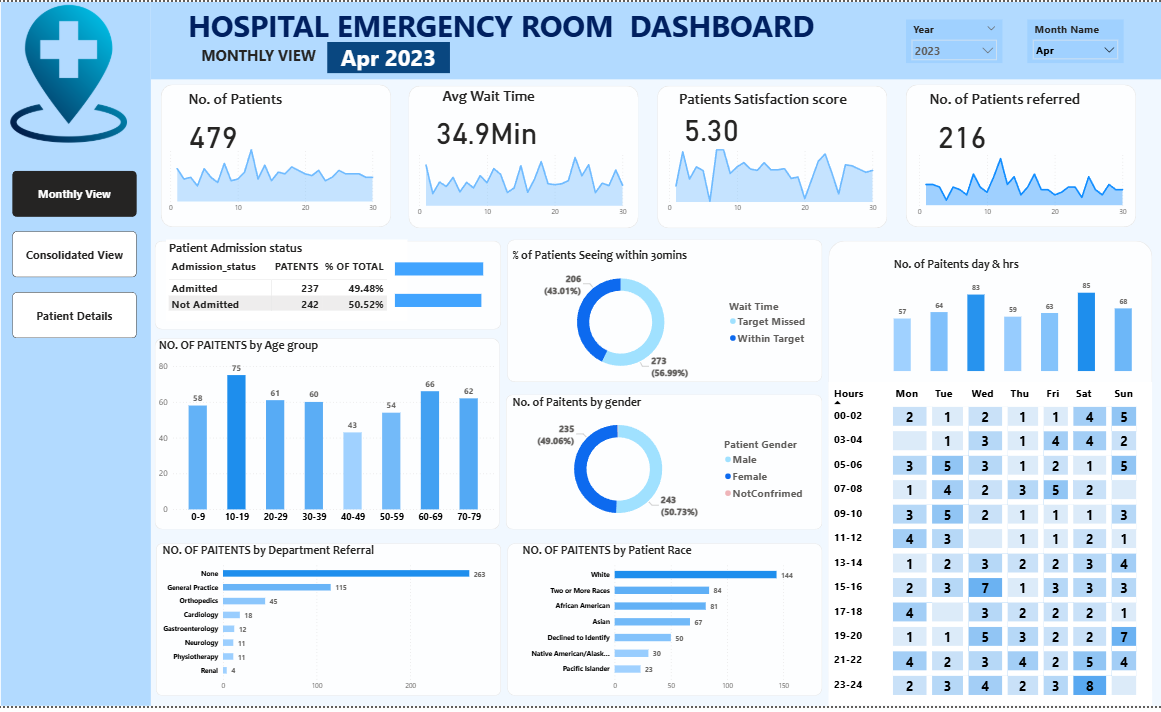

Layout of this report page (visuals, bound fields, positions):
{"tool":"powerbi","page":{"name":"Monthly View","canvas":[2100,1267],"ordinal":0},"visuals":[{"type":"shape","box":[9,0,269.9,1266.4],"z":0},{"type":"shape","box":[1637.5,148.5,413.9,256.4],"z":1000},{"type":"shape","box":[1189.9,150.7,413.9,256.4],"z":2000},{"type":"shape","box":[742.3,150.7,413.9,256.4],"z":3000},{"type":"shape","box":[278.9,0,1822,139.5],"z":4000},{"type":"textbox","box":[296.9,0,1223.7,139.5],"z":5000},{"type":"shape","box":[296.9,148.5,413.9,256.4],"z":6000},{"type":"card","fields":{"Values":["Hospital ER_Data.NO. OF PATENTS"]},"box":[300.1,184.4,184.4,103.5],"z":7000},{"type":"slicer","fields":{"Values":["Date Table.Year"]},"box":[1637.5,31.5,173.2,78.7],"z":8000},{"type":"slicer","fields":{"Values":["Date Table.Month Name"]},"box":[1855.7,31.5,173.2,78.7],"z":9000},{"type":"textbox","box":[348.7,72,247.4,78.7],"z":10000},{"type":"textbox","box":[300.1,153,263.2,67.5],"z":11000},{"type":"areaChart","fields":{"Y":["Hospital ER_Data.NO. OF PATENTS"],"Category":["Date Table.Date.Variation.Date Hierarchy.Day"]},"box":[299.2,251.9,393.6,137.2],"z":12000},{"type":"card","fields":{"Values":["Min(Date Table.Month & Year)"]},"box":[596.1,72,220.4,56.2],"z":13000},{"type":"card","fields":{"Values":["Hospital ER_Data.Avg wait time"]},"box":[783.7,177.7,200.2,103.5],"z":14000},{"type":"textbox","box":[763.4,148.5,247.4,72],"z":15000},{"type":"areaChart","fields":{"Category":["Date Table.Date.Variation.Date Hierarchy.Day"],"Y":["Avg(Hospital ER_Data.Patient Waittime)"]},"box":[746.8,258.7,395.9,137.2],"z":16000},{"type":"card","fields":{"Values":["Avg(Hospital ER_Data.Patient Satisfaction Score)"]},"box":[1195.3,173.2,184.4,103.5],"z":17000},{"type":"textbox","box":[1199.8,153,362.1,72],"z":18000},{"type":"areaChart","fields":{"Category":["Date Table.Date.Variation.Date Hierarchy.Day"],"Y":["Avg(Hospital ER_Data.Patient Satisfaction Score)"]},"box":[1197.6,251.9,395.9,137.2],"z":19000},{"type":"card","fields":{"Values":["Hospital ER_Data.No of patients referred"]},"box":[1647.1,184.1,184.4,103.5],"z":20000},{"type":"textbox","box":[1618.2,153,395.9,85.5],"z":21000},{"type":"areaChart","fields":{"Category":["Date Table.Date.Variation.Date Hierarchy.Day"],"Y":["Hospital ER_Data.No of patients referred"]},"box":[1647.1,258.3,395.9,137.2],"z":22000},{"type":"shape","box":[285.7,429.6,623.1,159.7],"z":23000},{"type":"pivotTable","title":"Patient Admission status","fields":{"Rows":["Hospital ER_Data.Admission_status"],"Values":["Hospital ER_Data.NO. OF PATENTS1","Hospital ER_Data.NO. OF PATENTS"]},"box":[305.5,427.4,434.1,146.2],"z":24000},{"type":"barChart","fields":{"Category":["Hospital ER_Data.Admission_status"],"Y":["Hospital ER_Data.NO. OF PATENTS"]},"box":[713.1,427.4,206.9,159.7],"z":25000},{"type":"shape","box":[285.7,605.1,620.8,344.2],"z":26000},{"type":"clusteredColumnChart","fields":{"Category":["Hospital ER_Data.Age group"],"Y":["Hospital ER_Data.NO. OF PATENTS"]},"box":[287.9,605.1,614.1,344.2],"z":27000},{"type":"shape","box":[287.9,974,620.8,274.4],"z":28000},{"type":"clusteredBarChart","fields":{"Category":["Hospital ER_Data.Department Referral"],"Y":["Hospital ER_Data.NO. OF PAITENTS"]},"box":[294.7,974,602.8,274.4],"z":29000},{"type":"shape","title":"%age of Patients within 30 mins","box":[920,427.4,566.8,256.4],"z":30000},{"type":"donutChart","title":"% of Patients Seeing within 30mins","fields":{"Category":["Hospital ER_Data.Wait Time"],"Y":["Hospital ER_Data.NO. OF PAITENTS"]},"box":[924.5,443.1,546.6,240.7],"z":31000},{"type":"shape","title":"%age of Patients within 30 mins","box":[917.7,706.3,569.1,242.9],"z":32000},{"type":"shape","title":"%age of Patients within 30 mins","box":[1498.1,429.6,582.6,836.8],"z":33000},{"type":"donutChart","title":"No. of Paitents by gender","fields":{"Y":["Hospital ER_Data.NO. OF PAITENTS"],"Category":["Hospital ER_Data.Patient Gender"]},"box":[924.5,706.3,546.6,242.9],"z":34000},{"type":"shape","box":[920,974,566.8,274.4],"z":35000},{"type":"clusteredBarChart","fields":{"Category":["Hospital ER_Data.Patient Race"],"Y":["Hospital ER_Data.NO. OF PAITENTS"]},"box":[942.5,974,512.9,274.4],"z":36000},{"type":"pivotTable","fields":{"Rows":["Hospital ER_Data.Waittime_interval"],"Columns":["Date Table.Day_name"],"Values":["Hospital ER_Data.No of patients referred"]},"box":[1498.1,683.8,582.6,582.6],"z":37000},{"type":"columnChart","title":"No. of Paitents day & hrs","fields":{"Category":["Date Table.Day_name"],"Y":["Hospital ER_Data.NO. OF PAITENTS"]},"box":[1610.6,458.9,440.9,211.4],"z":38000},{"type":"image","box":[0,0,260.9,258.7],"z":39000},{"type":"pageNavigator","box":[29.2,303.7,224.9,301.4],"z":40000}]}

Visuals, with their boxes in screenshot pixels (x1, y1, x2, y2), scaled from the page's 2100x1267 canvas onto the 1161x712 screenshot:
shape: <region>5, 0, 154, 711</region>
shape: <region>905, 83, 1134, 228</region>
shape: <region>658, 85, 887, 229</region>
shape: <region>410, 85, 639, 229</region>
shape: <region>154, 0, 1160, 78</region>
textbox: <region>164, 0, 841, 78</region>
shape: <region>164, 83, 393, 228</region>
card - Hospital ER_Data.NO. OF PATENTS: <region>166, 104, 268, 162</region>
slicer - Date Table.Year: <region>905, 18, 1001, 62</region>
slicer - Date Table.Month Name: <region>1026, 18, 1122, 62</region>
textbox: <region>193, 40, 330, 85</region>
textbox: <region>166, 86, 311, 124</region>
areaChart - Hospital ER_Data.NO. OF PATENTS x Date Table.Date.Variation.Date Hierarchy.Day: <region>165, 142, 383, 219</region>
card - Min(Date Table.Month & Year): <region>330, 40, 451, 72</region>
card - Hospital ER_Data.Avg wait time: <region>433, 100, 544, 158</region>
textbox: <region>422, 83, 559, 124</region>
areaChart - Date Table.Date.Variation.Date Hierarchy.Day x Avg(Hospital ER_Data.Patient Waittime): <region>413, 145, 632, 222</region>
card - Avg(Hospital ER_Data.Patient Satisfaction Score): <region>661, 97, 763, 155</region>
textbox: <region>663, 86, 864, 126</region>
areaChart - Date Table.Date.Variation.Date Hierarchy.Day x Avg(Hospital ER_Data.Patient Satisfaction Score): <region>662, 142, 881, 219</region>
card - Hospital ER_Data.No of patients referred: <region>911, 103, 1013, 162</region>
textbox: <region>895, 86, 1114, 134</region>
areaChart - Date Table.Date.Variation.Date Hierarchy.Day x Hospital ER_Data.No of patients referred: <region>911, 145, 1129, 222</region>
shape: <region>158, 241, 502, 331</region>
"Patient Admission status" pivotTable: <region>169, 240, 409, 322</region>
barChart - Hospital ER_Data.Admission_status x Hospital ER_Data.NO. OF PATENTS: <region>394, 240, 509, 330</region>
shape: <region>158, 340, 501, 533</region>
clusteredColumnChart - Hospital ER_Data.Age group x Hospital ER_Data.NO. OF PATENTS: <region>159, 340, 499, 533</region>
shape: <region>159, 547, 502, 702</region>
clusteredBarChart - Hospital ER_Data.Department Referral x Hospital ER_Data.NO. OF PAITENTS: <region>163, 547, 496, 702</region>
"%age of Patients within 30 mins" shape: <region>509, 240, 822, 384</region>
"% of Patients Seeing within 30mins" donutChart: <region>511, 249, 813, 384</region>
"%age of Patients within 30 mins" shape: <region>507, 397, 822, 533</region>
"%age of Patients within 30 mins" shape: <region>828, 241, 1150, 711</region>
"No. of Paitents by gender" donutChart: <region>511, 397, 813, 533</region>
shape: <region>509, 547, 822, 702</region>
clusteredBarChart - Hospital ER_Data.Patient Race x Hospital ER_Data.NO. OF PAITENTS: <region>521, 547, 805, 702</region>
pivotTable - Hospital ER_Data.Waittime_interval x Date Table.Day_name: <region>828, 384, 1150, 711</region>
"No. of Paitents day & hrs" columnChart: <region>890, 258, 1134, 377</region>
image: <region>0, 0, 144, 145</region>
pageNavigator: <region>16, 171, 140, 340</region>
